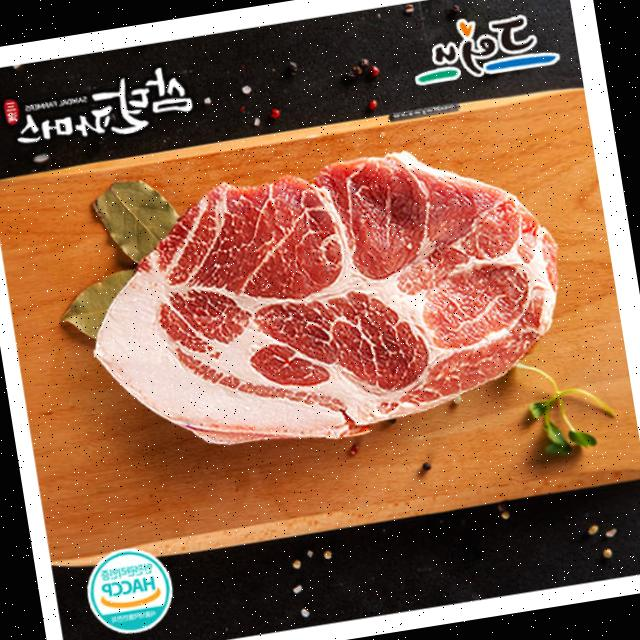meat: (55, 120, 588, 494)
